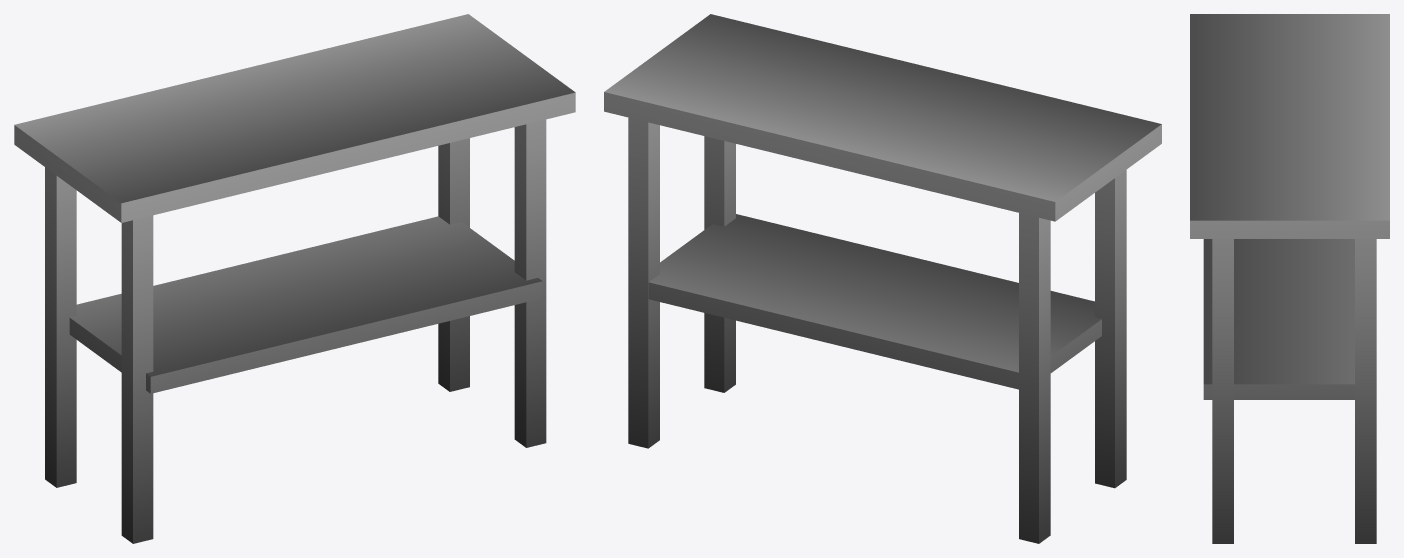
File: Table.fbx
3 renders of one model, left to right at view 1: azimuth 30°, elevation 25°; view 2: azimuth 150°, elevation 25°; view 3: azimuth 270°, elevation 25°, orthographic. The views are drawn at different scales.
Visible parts, largest first — view 1: Cube.155; view 2: Cube.155; view 3: Cube.155.
Part boxes in pixels (x1,y1,x2,y2): Cube.155: (14, 14, 575, 543); Cube.155: (604, 14, 1161, 543); Cube.155: (1190, 14, 1389, 543).
Size of the model in its own units: 134 by 100 by 54.95.
